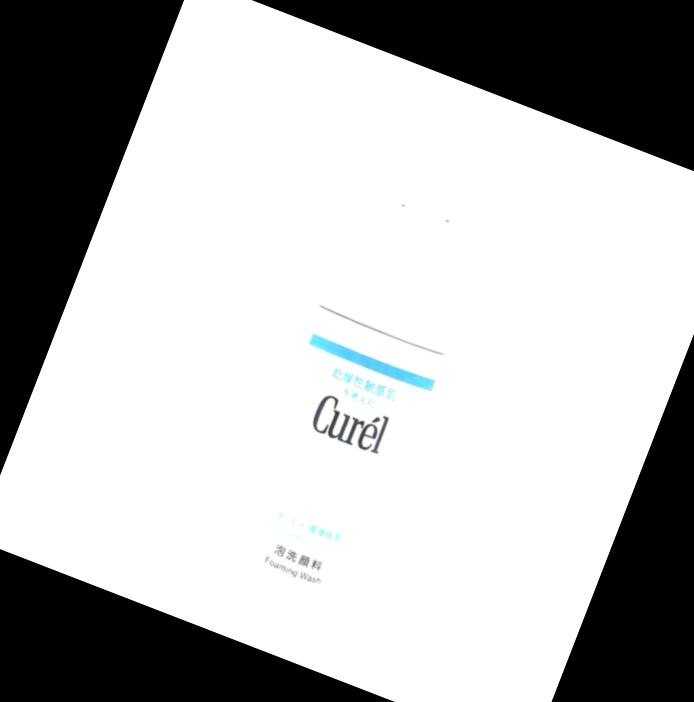cosmetic: (168, 87, 555, 660)
